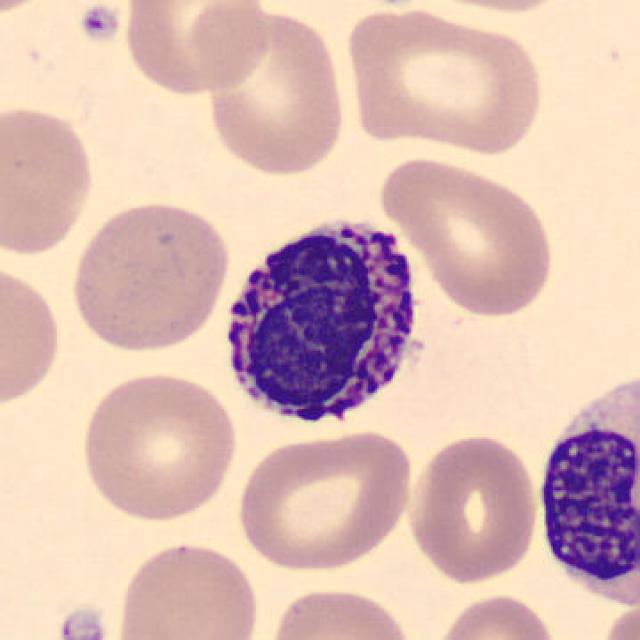Basophil: (212, 204, 432, 441)
Lymphocyte: (528, 363, 640, 614)
Monocyte: (526, 358, 640, 621)
Platelets: (55, 603, 110, 640), (76, 3, 121, 42)
RBC: (340, 2, 550, 158), (373, 152, 560, 321), (231, 426, 420, 574), (66, 196, 234, 356), (199, 3, 350, 180), (76, 367, 242, 525), (404, 430, 542, 587), (110, 537, 264, 640), (0, 101, 98, 259), (119, 0, 272, 99), (0, 258, 66, 412), (263, 582, 418, 640), (428, 590, 559, 640), (407, 0, 580, 16), (596, 599, 638, 640), (0, 0, 64, 18)
